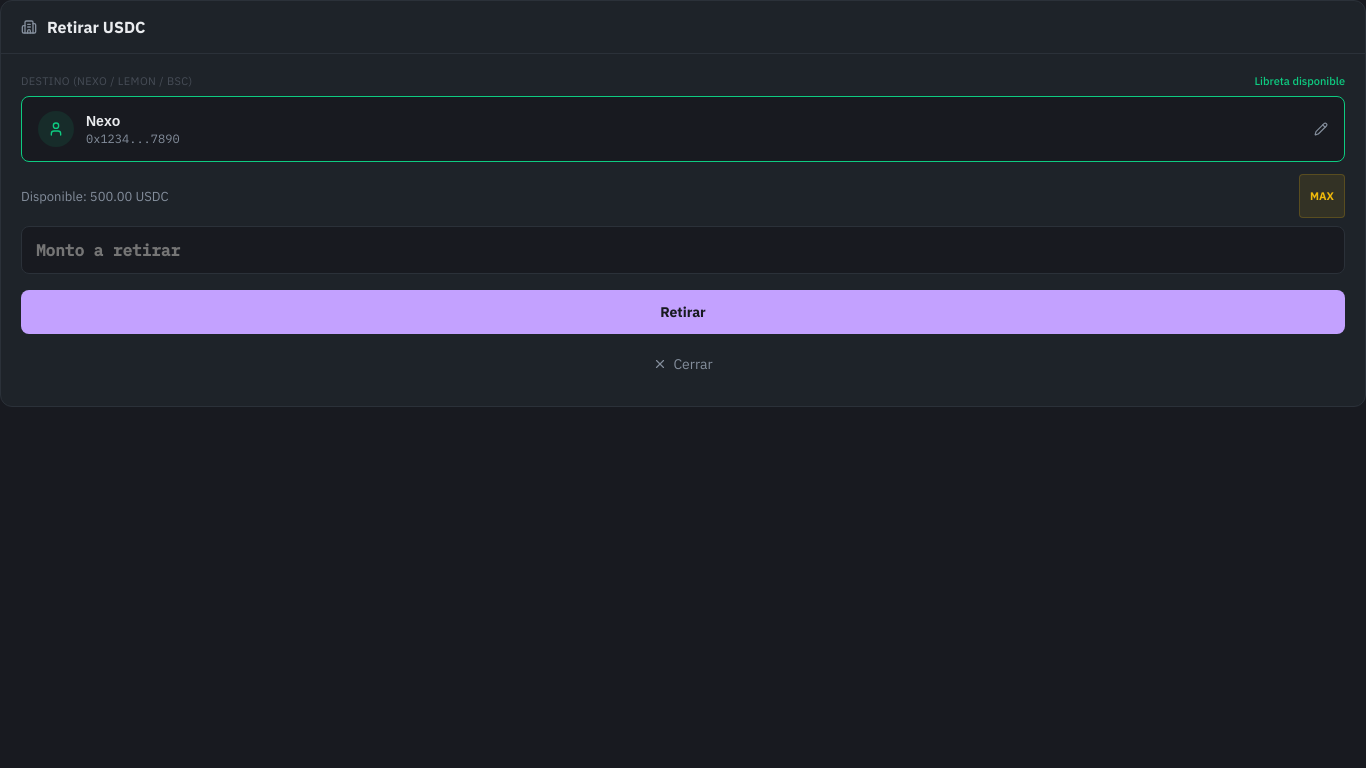
it: Withdraw Component › handleWithdraw — API › API error (res.ok=false): muestra el mensaje de error del servidor
The image size is (1366, 768).
Type "100" into the number field with placeholder "Monto a retirar".
click(683, 250); type("100")  # box [21,226,1345,274]
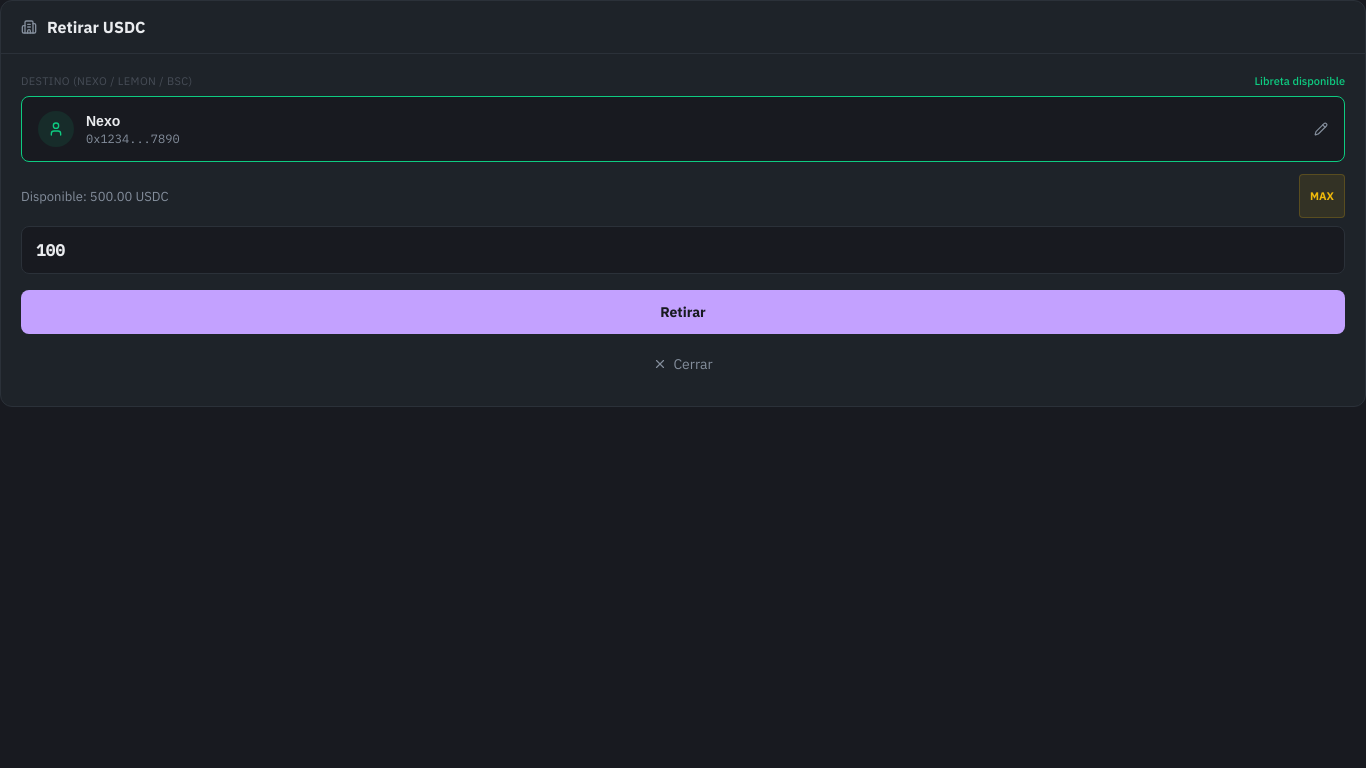
Click the button "Retirar".
click(683, 312)  # box [21,290,1345,334]
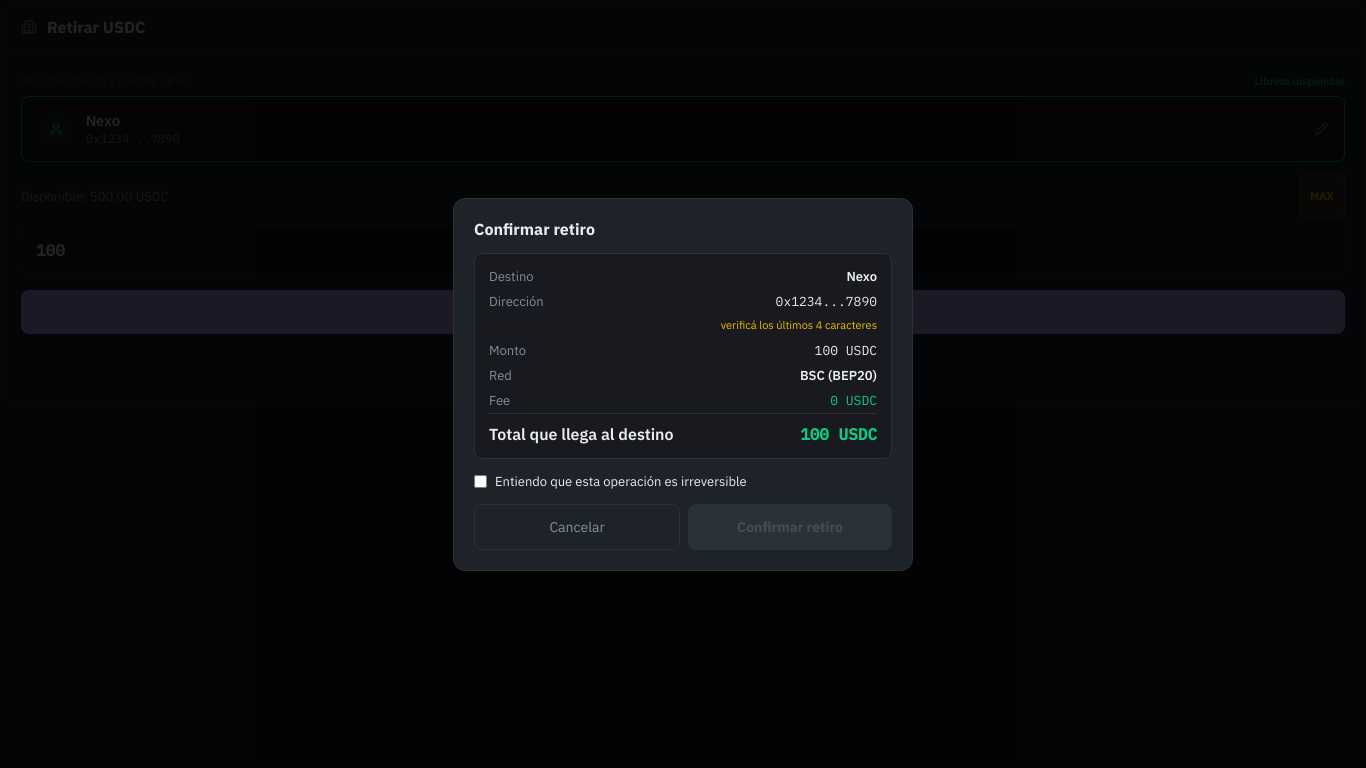
Click the checkbox labelled "Entiendo que esta operación es irreversible".
click(480, 481)  # box [474,474,487,488]
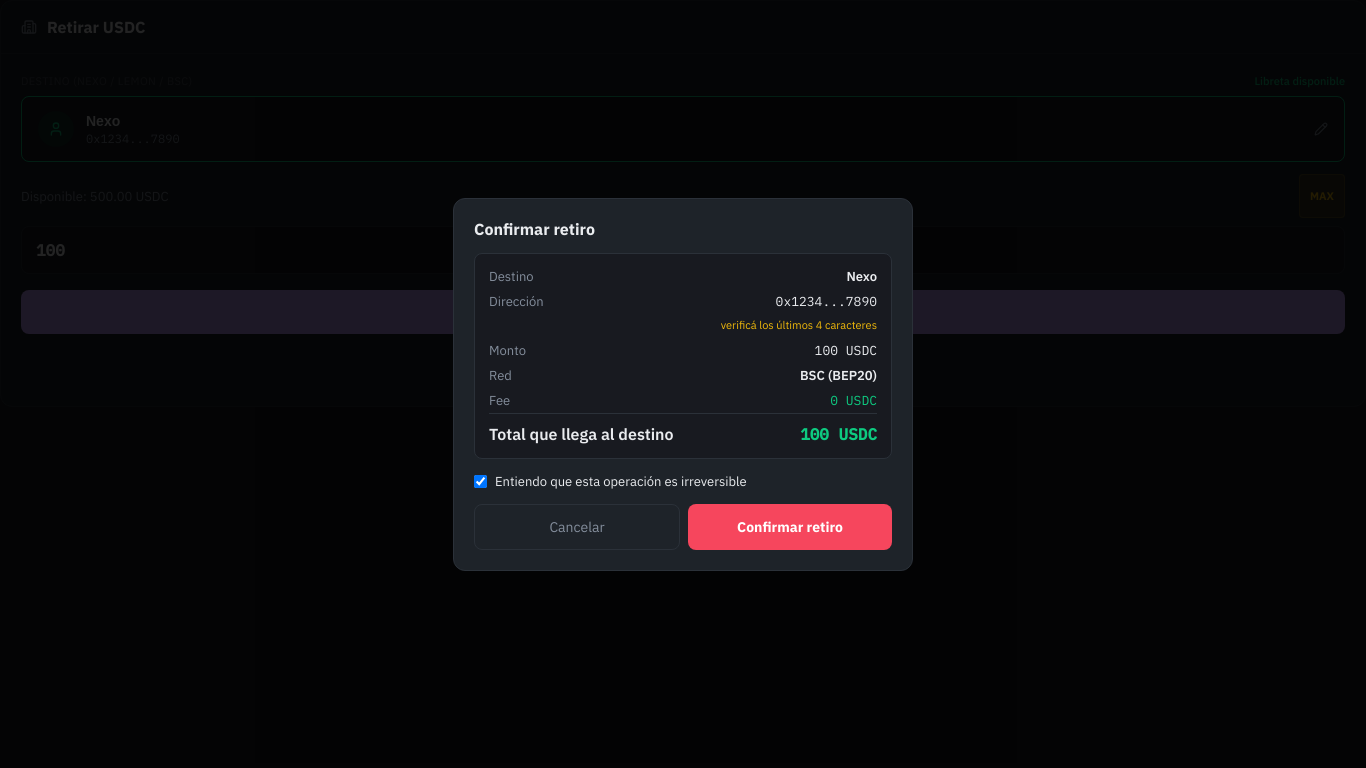
Click the button "Confirmar retiro".
click(790, 526)  # box [688,504,892,550]
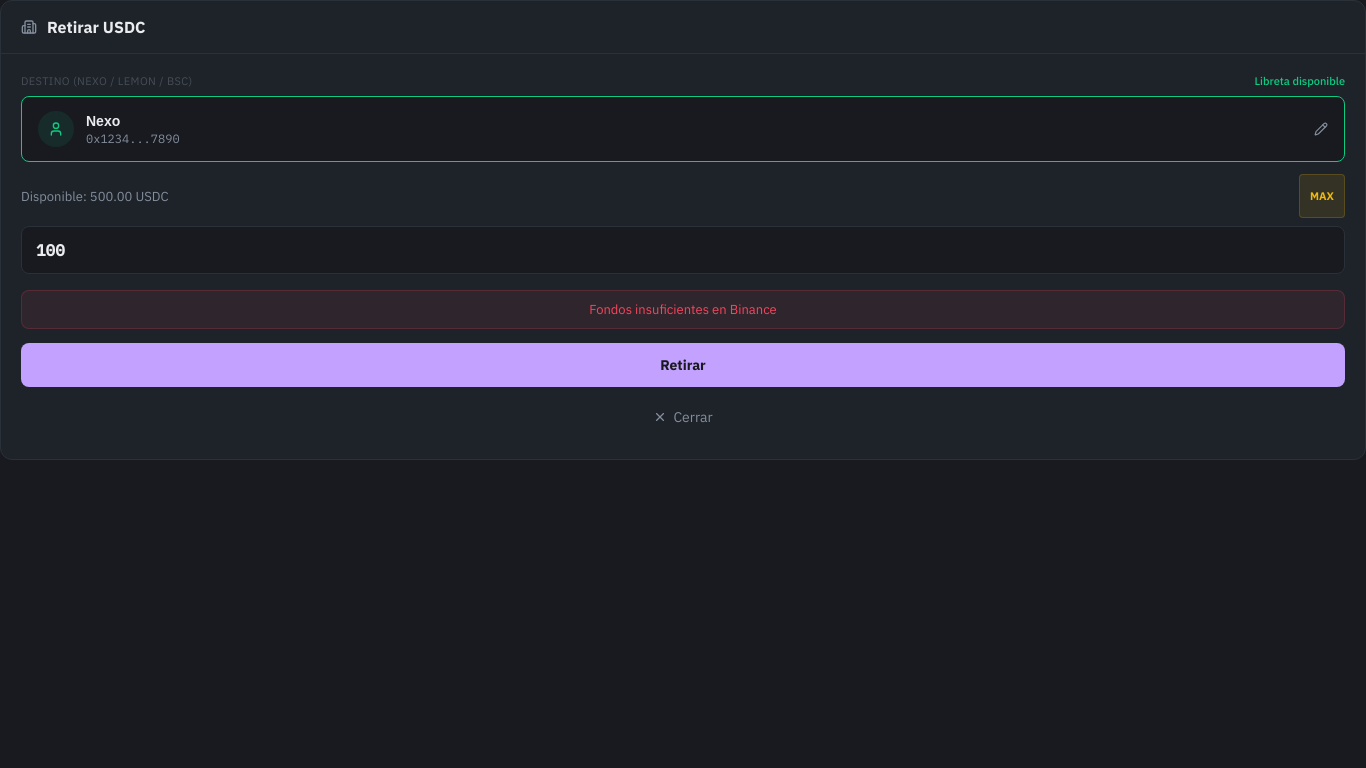
Result: the text "Fondos insuficientes en Binance" is shown at [21,290,1345,329]
